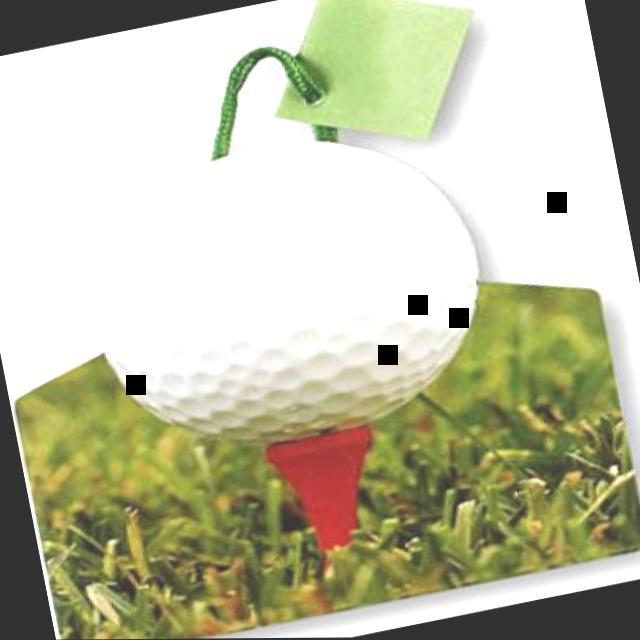golf ball: (59, 96, 518, 471)
